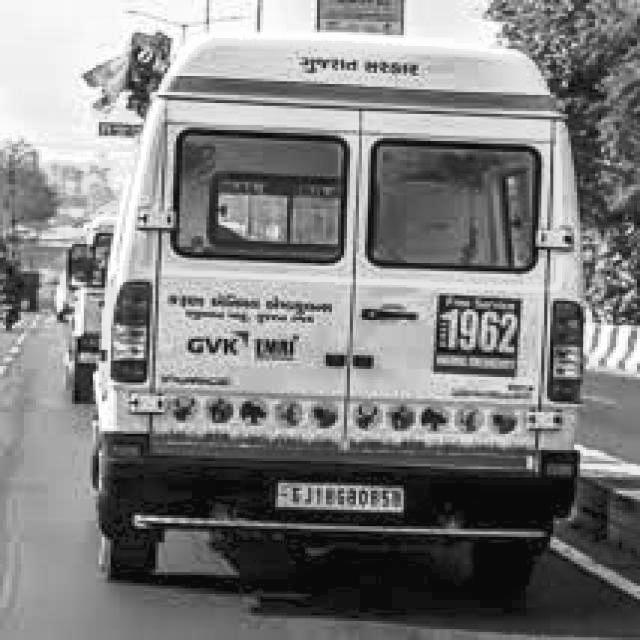LCV: (102, 37, 581, 516)
